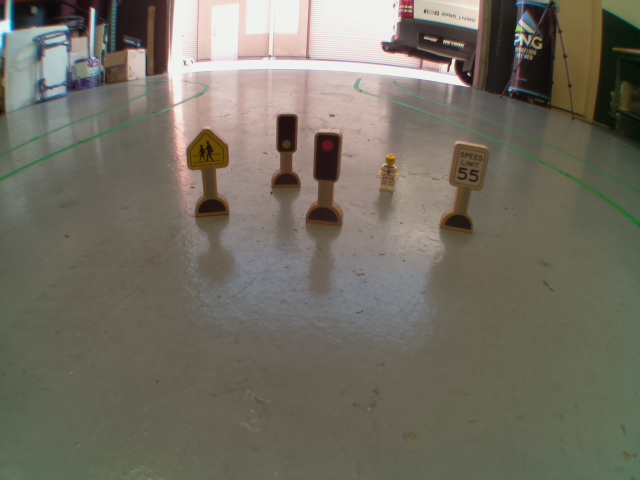Green Traffic Light: (273, 112, 300, 154)
Red Traffic Light: (311, 128, 342, 183)
Speed Limit 55: (449, 141, 488, 193)
YIELD: (185, 126, 229, 170)
person: (377, 152, 403, 193)
